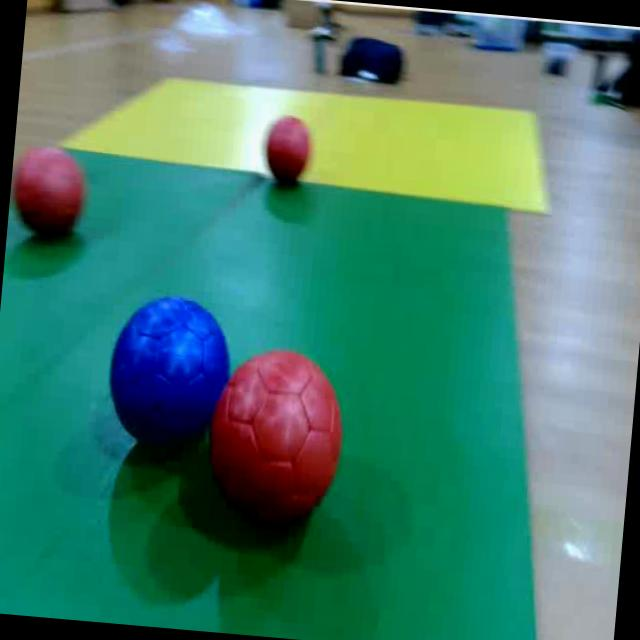blue_ball: (105, 290, 225, 463)
red_ball: (209, 347, 354, 531), (5, 137, 94, 246), (260, 105, 316, 188)
